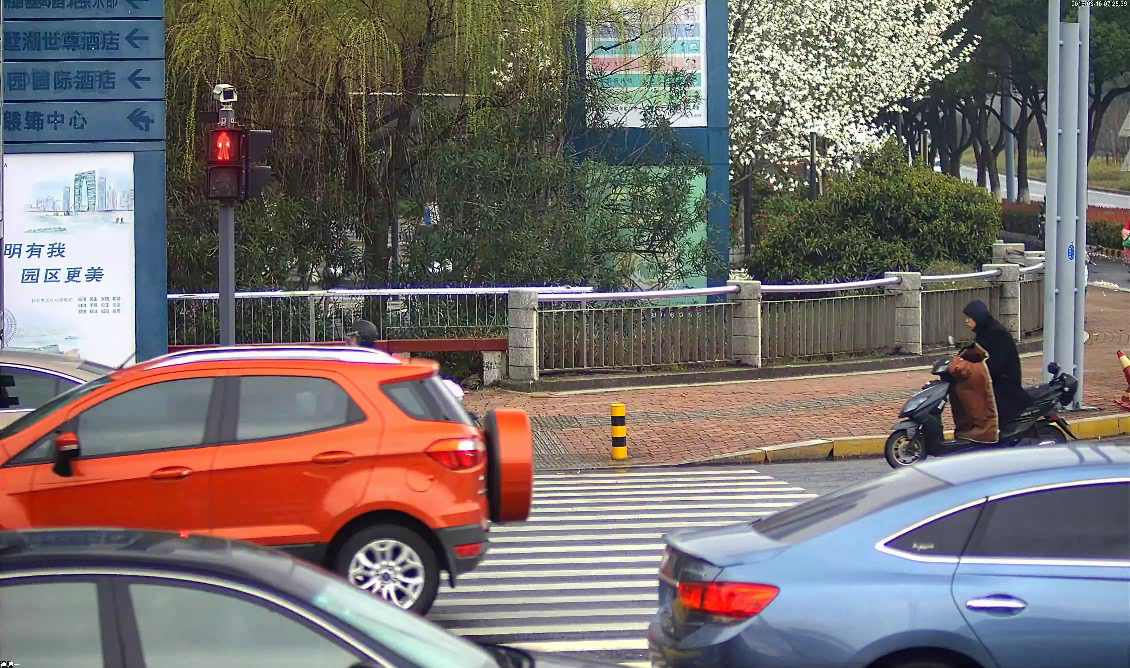person: (940, 292, 1042, 465)
